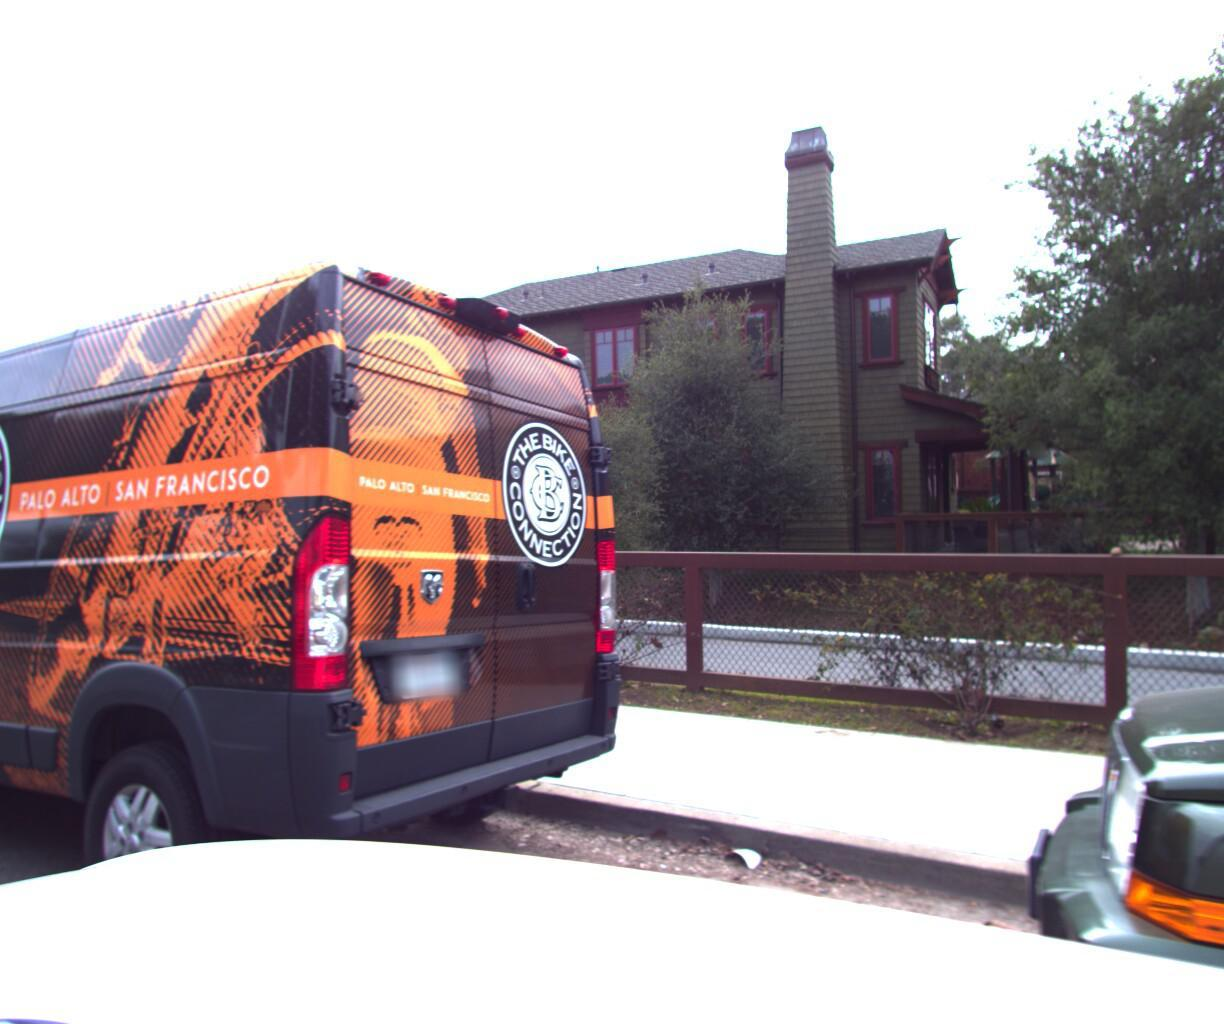car: (0, 219, 636, 1024)
